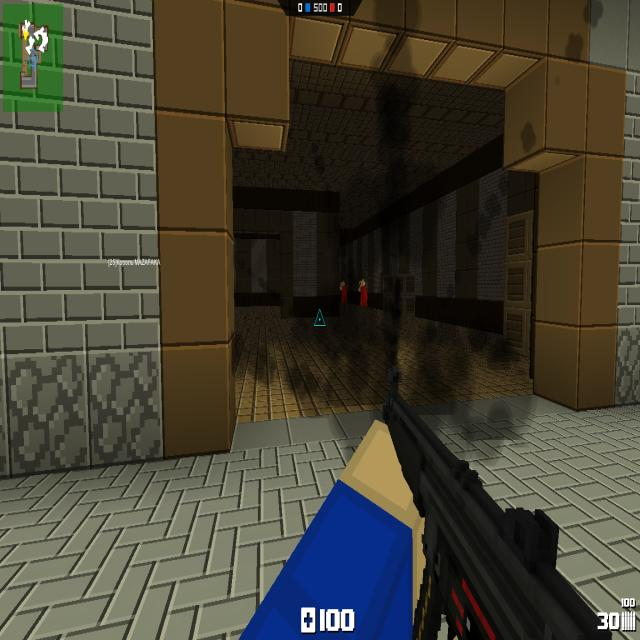enemy: (358, 279, 368, 306), (340, 280, 348, 302)
